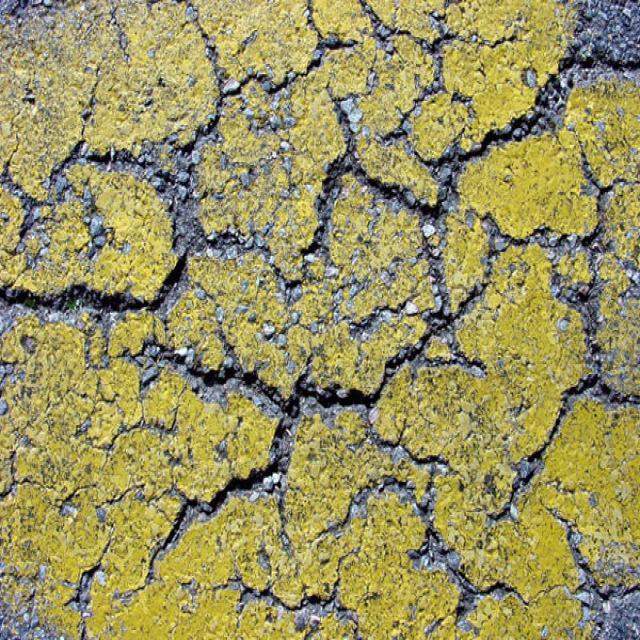Drain Hole: (17, 76, 640, 633)
